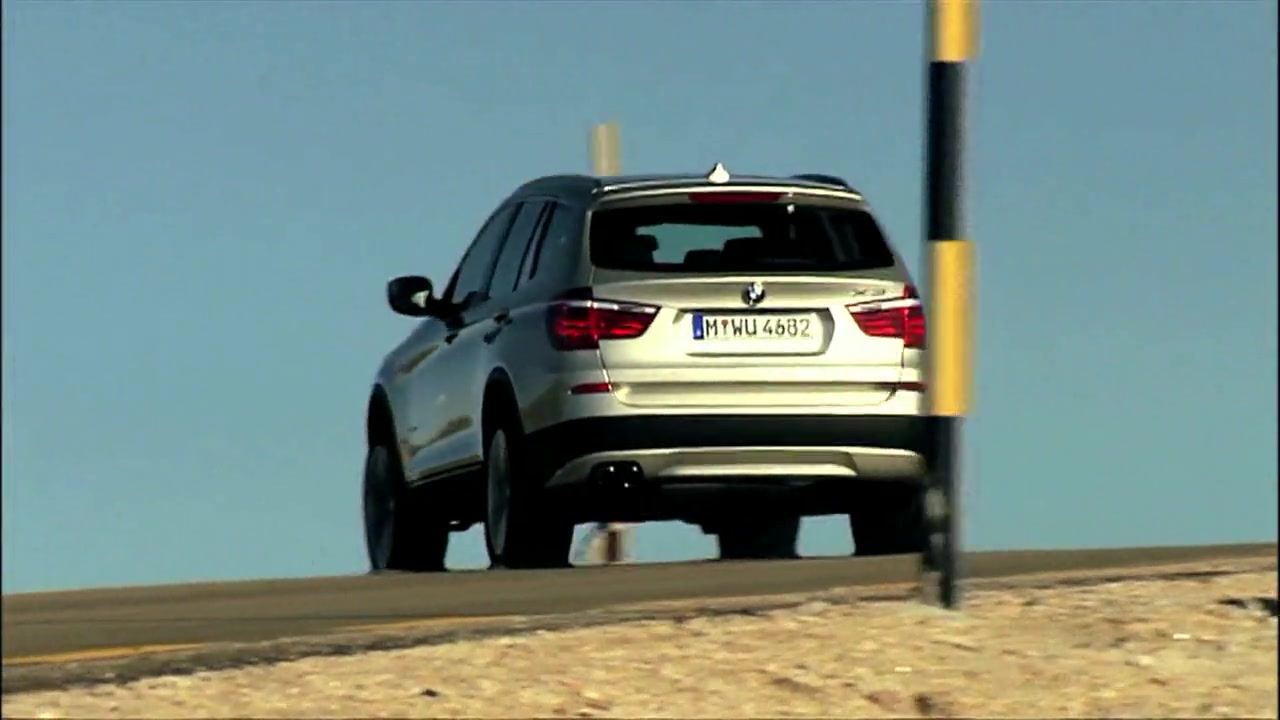car: (361, 168, 933, 576)
